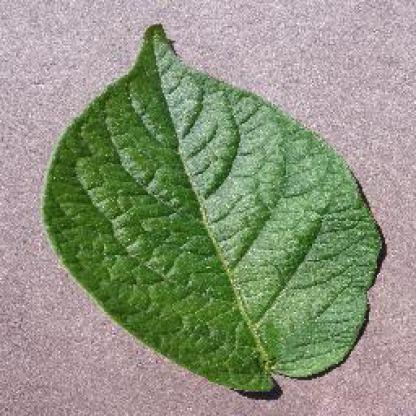good leaf: (69, 77, 341, 366)
